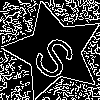S: (29, 26, 86, 83)
